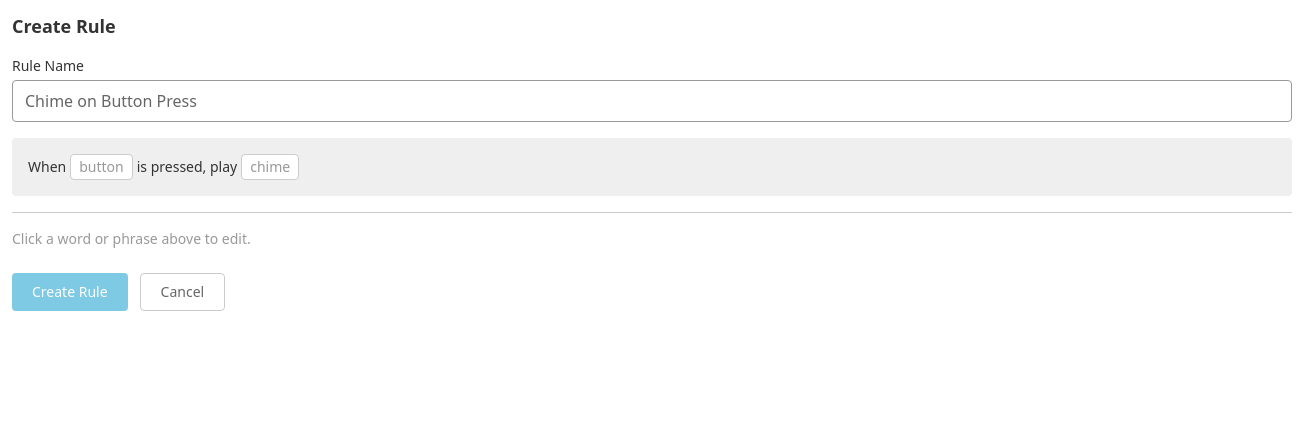
Test: RulePanel (create mode) › selects device via radio and updates variable display
Click the button "button": coordinates (101, 167) [70,154,133,180]
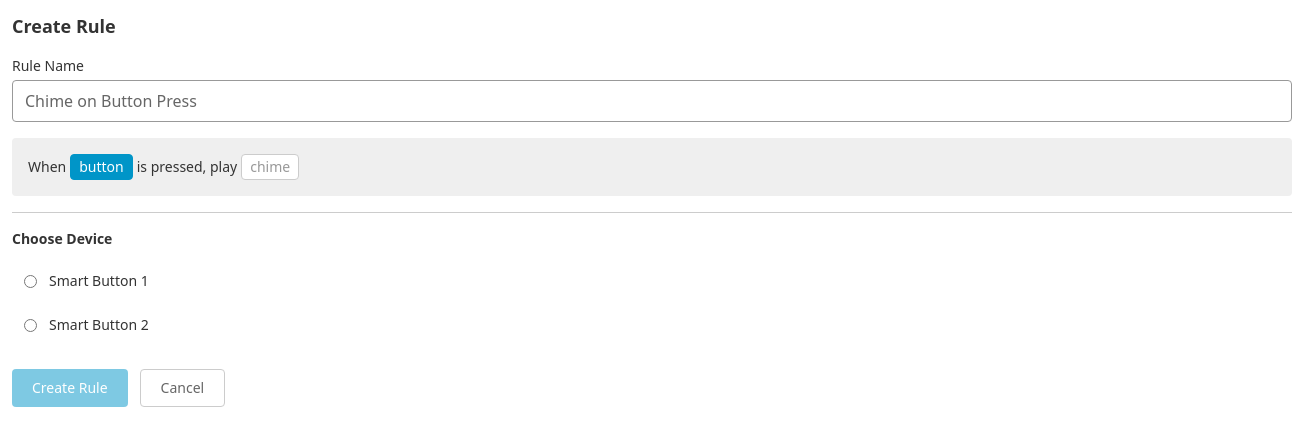
Click the radio button labelled "Smart Button 1": coordinates (30, 281) [24,274,37,288]
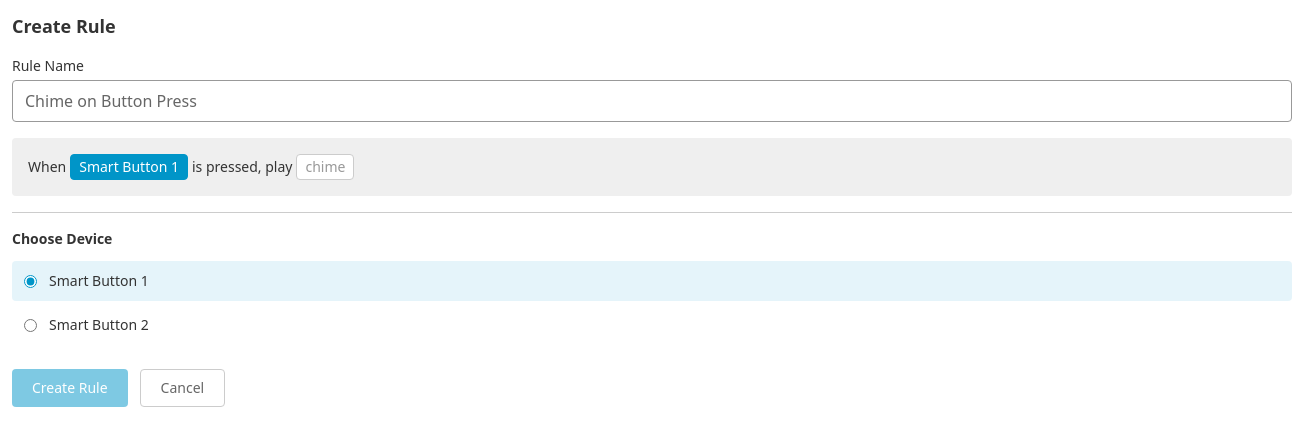
Expected: the text "Smart Button 2" is shown, [49,315,149,335]
Expected: the button "Smart Button 1" is shown, [70,154,188,180]
